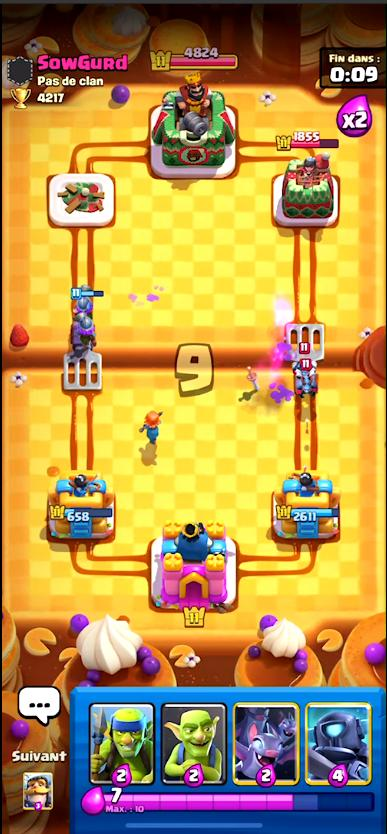gargouille: (295, 363, 317, 398), (299, 345, 316, 378)
mousquetaire: (72, 283, 100, 317), (73, 314, 96, 345)
valkyrie: (143, 408, 165, 450)
